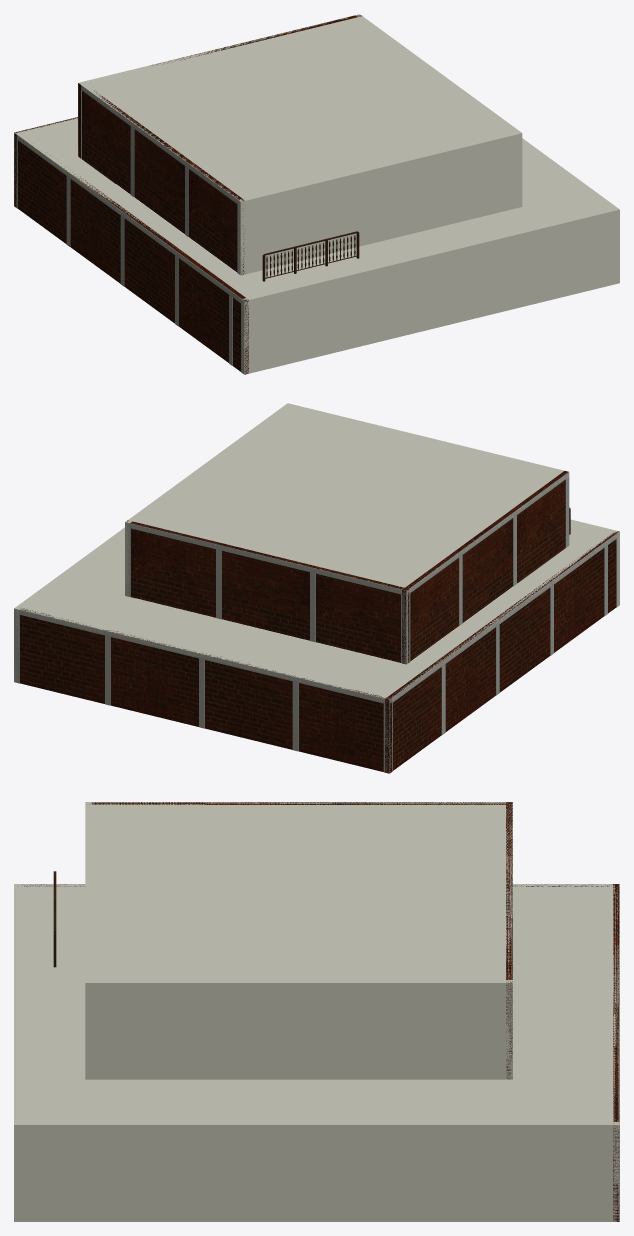
The model's file is building.glb.
The picture shows the model from 3 angles, top to bottom: view 1: azimuth 30°, elevation 25°; view 2: azimuth 150°, elevation 25°; view 3: azimuth 270°, elevation 25°; orthographic projection. The views are drawn at different scales.
Parts seen in each view (by area): view 1: roof/upper:0/roof_slab#0001, lower:0/edge0/z0/lower:0/edge0/z0/wall_0_0, upper:0/edge0/z3/upper:0/edge0/z3/wall_0_0, roof/lower:0/roof_slab#0001, lower:0/edge3/z0/lower:0/edge3/z0/wall_0_0, upper:0/edge3/z3/upper:0/edge3/z3/wall_0_0, lower:0/edge3/z0/lower:0/edge3/z0/beam_0_0, upper:0/edge1/z3/upper:0/edge1/z3/wall_0_0, upper:0/edge3/z3/upper:0/edge3/z3/beam_0_0, lower:0/edge1/z0/lower:0/edge1/z0/wall_0_0, upper:0/edge2/z3/upper:0/edge2/z3/wall_0_0; view 2: roof/upper:0/roof_slab#0001, lower:0/edge2/z0/lower:0/edge2/z0/wall_0_0, roof/lower:0/roof_slab#0001, upper:0/edge2/z3/upper:0/edge2/z3/wall_0_0, lower:0/edge3/z0/lower:0/edge3/z0/wall_0_0, upper:0/edge3/z3/upper:0/edge3/z3/wall_0_0, lower:0/edge2/z0/lower:0/edge2/z0/beam_0_0, upper:0/edge2/z3/upper:0/edge2/z3/beam_0_0, lower:0/edge3/z0/lower:0/edge3/z0/beam_0_0, upper:0/edge1/z3/upper:0/edge1/z3/wall_0_0, upper:0/edge3/z3/upper:0/edge3/z3/beam_0_0, upper:0/edge0/z3/upper:0/edge0/z3/wall_0_0 (+1 smaller); view 3: roof/upper:0/roof_slab#0001, roof/lower:0/roof_slab#0001, lower:0/edge1/z0/lower:0/edge1/z0/wall_0_0, upper:0/edge1/z3/upper:0/edge1/z3/wall_0_0, lower:0/edge0/z0/lower:0/edge0/z0/wall_0_0, upper:0/edge0/z3/upper:0/edge0/z3/wall_0_0, lower:0/edge2/z0/lower:0/edge2/z0/wall_0_0, upper:0/edge2/z3/upper:0/edge2/z3/wall_0_0, upper:0/edge3/z3/upper:0/edge3/z3/wall_0_0.
Boxes of the visible parts, <box> form: roof/upper:0/roof_slab#0001: <box>78,14,520,204</box>; lower:0/edge0/z0/lower:0/edge0/z0/wall_0_0: <box>241,209,619,374</box>; upper:0/edge0/z3/upper:0/edge0/z3/wall_0_0: <box>238,132,522,275</box>; roof/lower:0/roof_slab#0001: <box>14,117,618,303</box>; lower:0/edge3/z0/lower:0/edge3/z0/wall_0_0: <box>17,140,248,374</box>; upper:0/edge3/z3/upper:0/edge3/z3/wall_0_0: <box>82,90,244,274</box>; lower:0/edge3/z0/lower:0/edge3/z0/beam_0_0: <box>14,133,243,303</box>; upper:0/edge1/z3/upper:0/edge1/z3/wall_0_0: <box>355,14,522,207</box>; upper:0/edge3/z3/upper:0/edge3/z3/beam_0_0: <box>81,85,240,205</box>; lower:0/edge1/z0/lower:0/edge1/z0/wall_0_0: <box>522,138,619,284</box>; upper:0/edge2/z3/upper:0/edge2/z3/wall_0_0: <box>78,15,361,158</box>; roof/upper:0/roof_slab#0001: <box>127,404,568,592</box>; lower:0/edge2/z0/lower:0/edge2/z0/wall_0_0: <box>20,608,392,772</box>; roof/lower:0/roof_slab#0001: <box>14,520,619,703</box>; upper:0/edge2/z3/upper:0/edge2/z3/wall_0_0: <box>127,520,409,662</box>; lower:0/edge3/z0/lower:0/edge3/z0/wall_0_0: <box>385,531,619,773</box>; upper:0/edge3/z3/upper:0/edge3/z3/wall_0_0: <box>402,471,568,663</box>; lower:0/edge2/z0/lower:0/edge2/z0/beam_0_0: <box>14,609,389,703</box>; upper:0/edge2/z3/upper:0/edge2/z3/beam_0_0: <box>125,522,406,595</box>; lower:0/edge3/z0/lower:0/edge3/z0/beam_0_0: <box>389,533,619,704</box>; upper:0/edge1/z3/upper:0/edge1/z3/wall_0_0: <box>125,405,289,596</box>; upper:0/edge3/z3/upper:0/edge3/z3/beam_0_0: <box>406,472,568,595</box>; upper:0/edge0/z3/upper:0/edge0/z3/wall_0_0: <box>285,403,569,477</box>; roof/upper:0/roof_slab#0001: <box>85,802,512,987</box>; roof/lower:0/roof_slab#0001: <box>14,884,619,1129</box>; lower:0/edge1/z0/lower:0/edge1/z0/wall_0_0: <box>14,1122,619,1221</box>; upper:0/edge1/z3/upper:0/edge1/z3/wall_0_0: <box>85,980,512,1079</box>; lower:0/edge0/z0/lower:0/edge0/z0/wall_0_0: <box>14,884,20,1221</box>; upper:0/edge0/z3/upper:0/edge0/z3/wall_0_0: <box>85,802,92,1079</box>; lower:0/edge2/z0/lower:0/edge2/z0/wall_0_0: <box>613,884,619,1221</box>; upper:0/edge2/z3/upper:0/edge2/z3/wall_0_0: <box>506,802,512,1078</box>; upper:0/edge3/z3/upper:0/edge3/z3/wall_0_0: <box>91,802,510,804</box>.
Size of the model in its own units: 16 by 6 by 17.
Materials: 4 (2 with a texture image).
